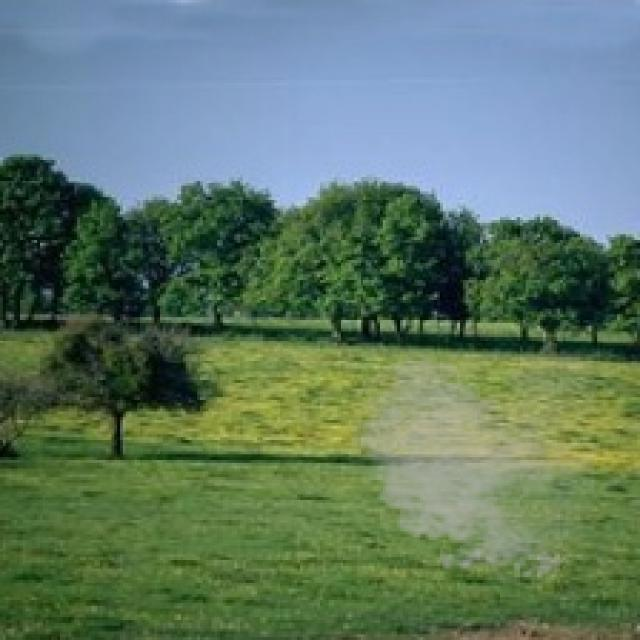Smoke: (343, 348, 594, 586)
